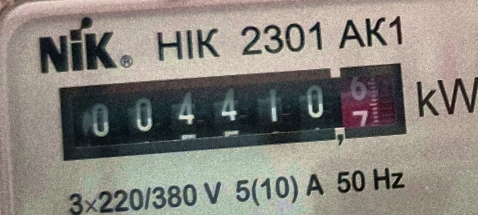0: (87, 99, 111, 139), (303, 83, 326, 120), (132, 94, 153, 134)
1: (264, 86, 280, 124)
4: (173, 87, 197, 127), (216, 85, 240, 125)
6: (349, 74, 369, 102)
7: (349, 107, 370, 128)
screen: (45, 46, 420, 175)
